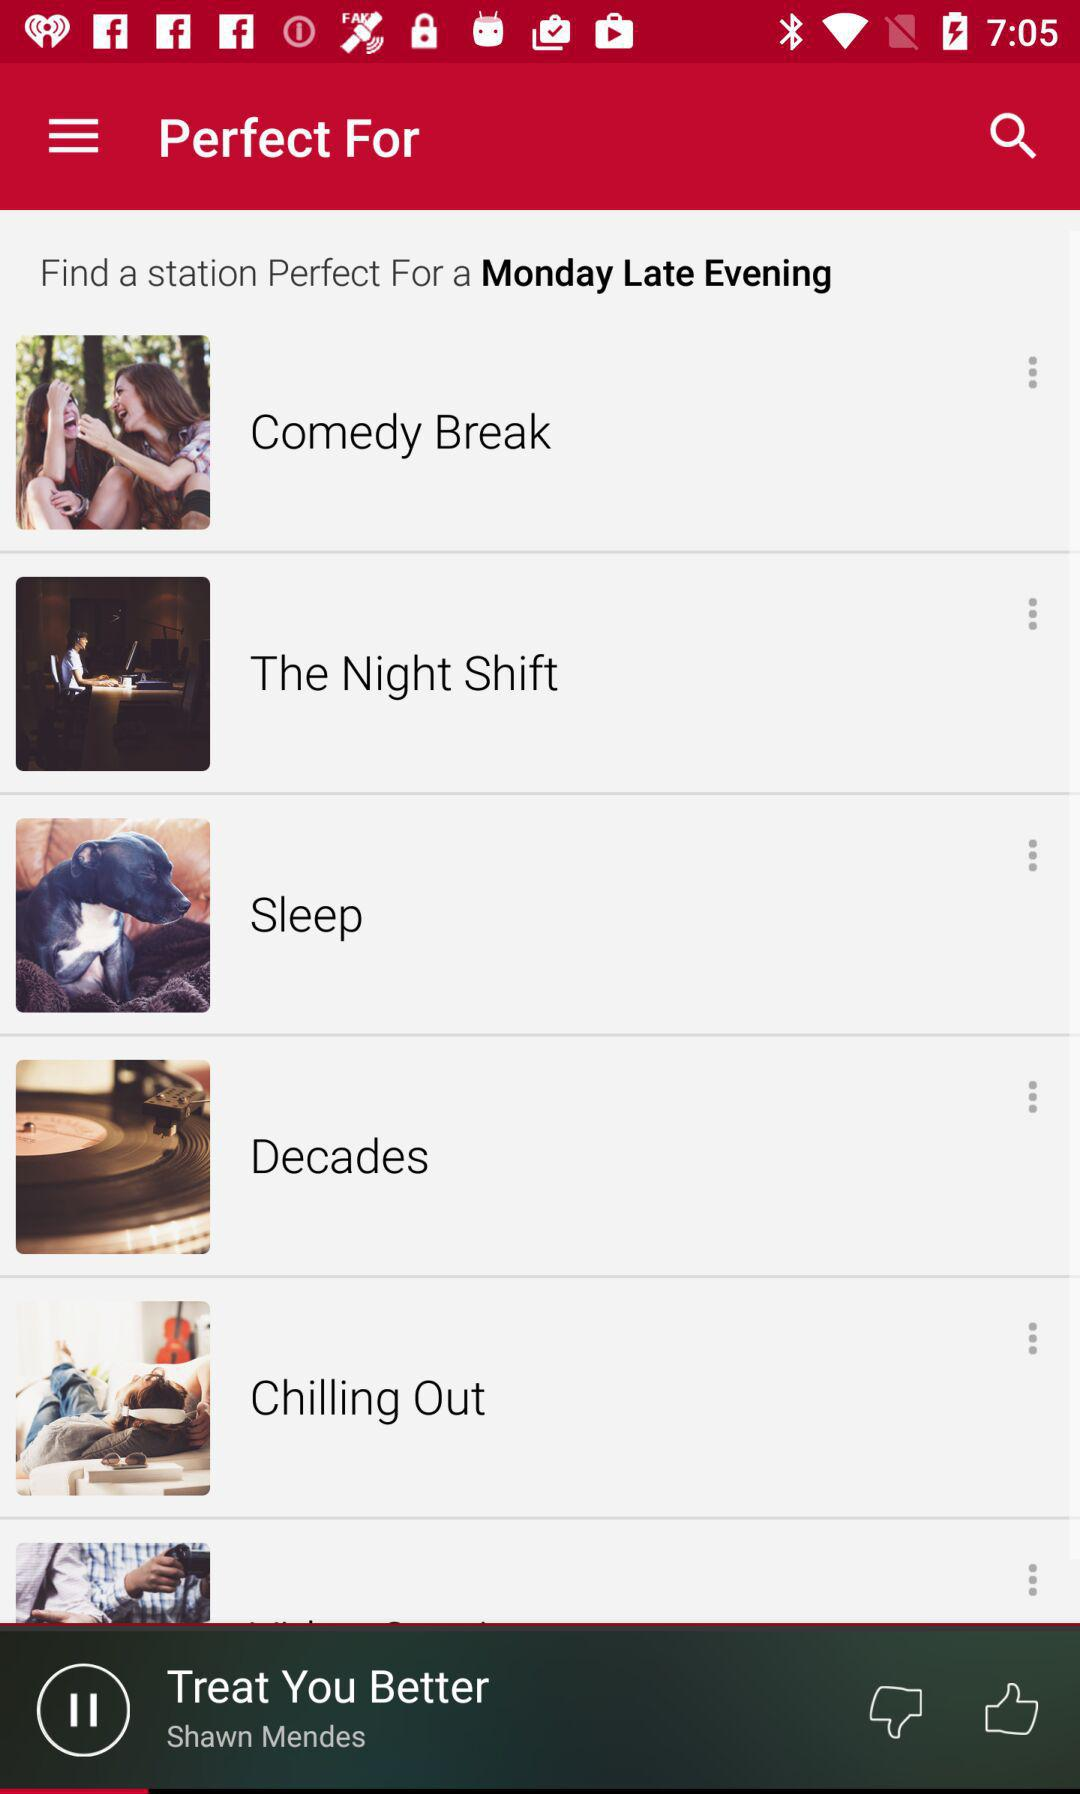Icon: (989, 113, 1036, 161), (47, 119, 100, 156), (1027, 1321, 1039, 1356), (1027, 838, 1039, 873), (1027, 356, 1039, 391), (1027, 1562, 1038, 1597), (1027, 598, 1038, 633), (1027, 1082, 1038, 1115)
Image: (15, 334, 211, 531), (15, 1302, 211, 1497), (15, 1060, 211, 1255), (15, 819, 211, 1014), (17, 578, 211, 771), (15, 1543, 211, 1624), (37, 1662, 132, 1758), (984, 1683, 1039, 1738), (869, 1685, 922, 1740)
Text: (44, 258, 831, 295), (250, 654, 559, 702), (252, 413, 552, 460), (167, 1668, 489, 1706), (252, 1378, 486, 1426), (161, 117, 421, 160), (252, 1137, 429, 1175), (251, 894, 363, 942), (167, 1724, 366, 1749)
Toolbar: (1, 65, 1080, 211)
UpperTaskBar: (1, 1, 1080, 64)
